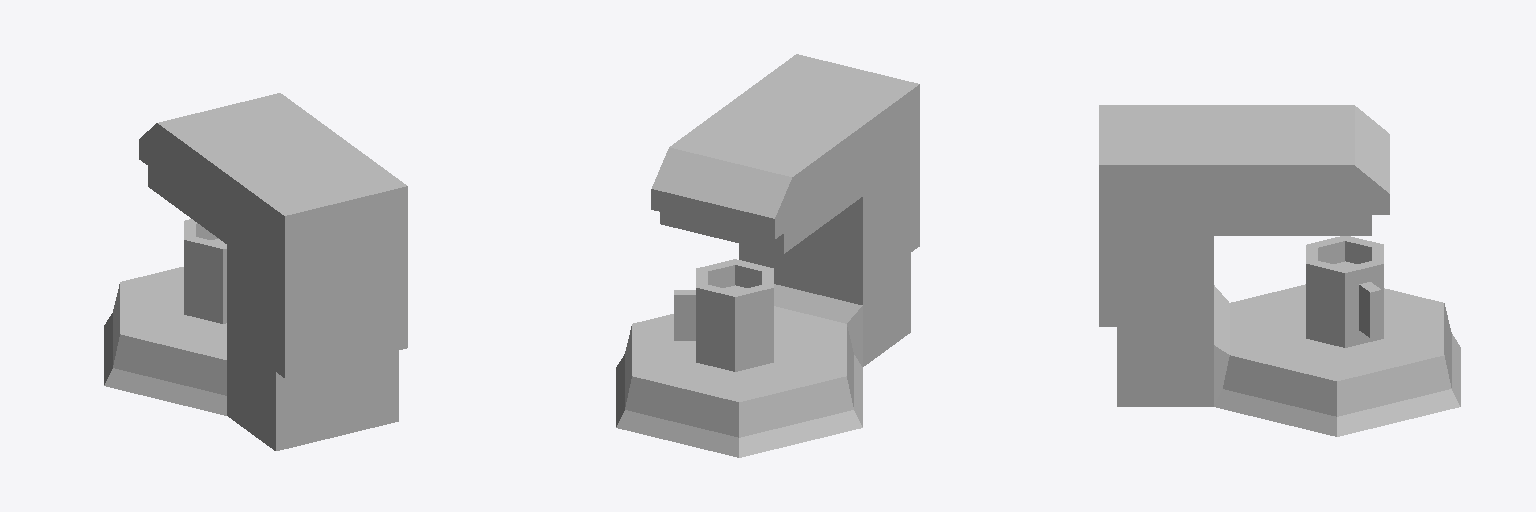
The model's file is kitchenCoffeeMachine.obj.
The picture shows the model from 3 angles: view 1: azimuth 30°, elevation 25°; view 2: azimuth 150°, elevation 25°; view 3: azimuth 270°, elevation 25°; orthographic projection.
Parts seen in each view (by area): view 1: kitchenCoffeeMachine, mug; view 2: kitchenCoffeeMachine, mug; view 3: kitchenCoffeeMachine, mug.
Part boxes in pixels (x1,y1,x2,y2): kitchenCoffeeMachine: (104,93,407,450); mug: (184,219,226,323); kitchenCoffeeMachine: (616,54,919,457); mug: (674,259,773,371); kitchenCoffeeMachine: (1099,105,1460,436); mug: (1306,236,1383,347).
Size of the model in its own units: 0.1895 by 0.1775 by 0.2402.